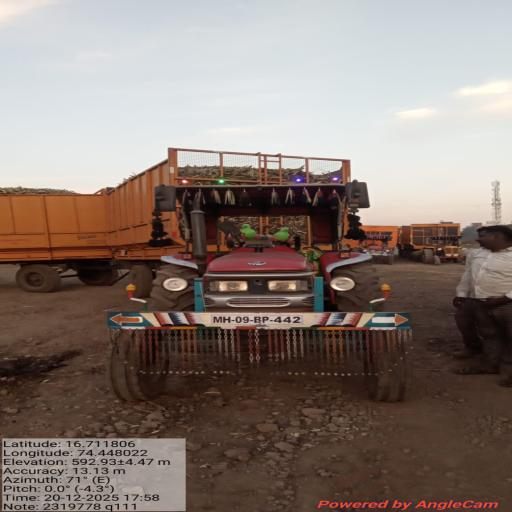number_plate: (210, 310, 340, 332)
